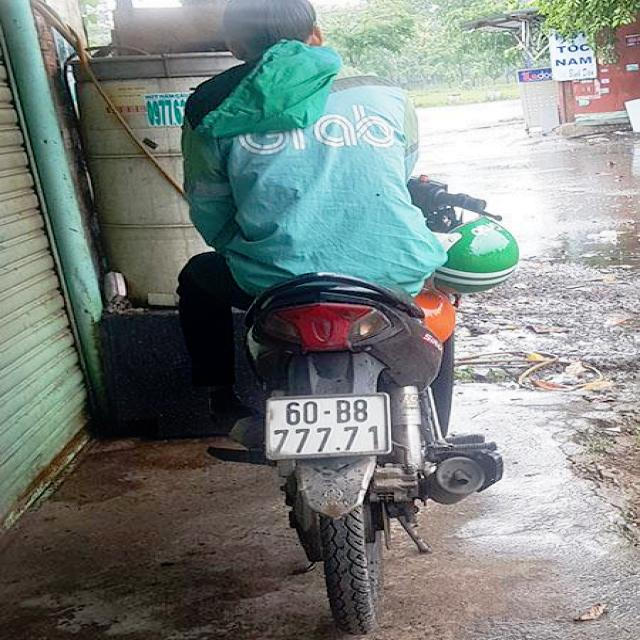license_plate: (269, 395, 388, 458)
